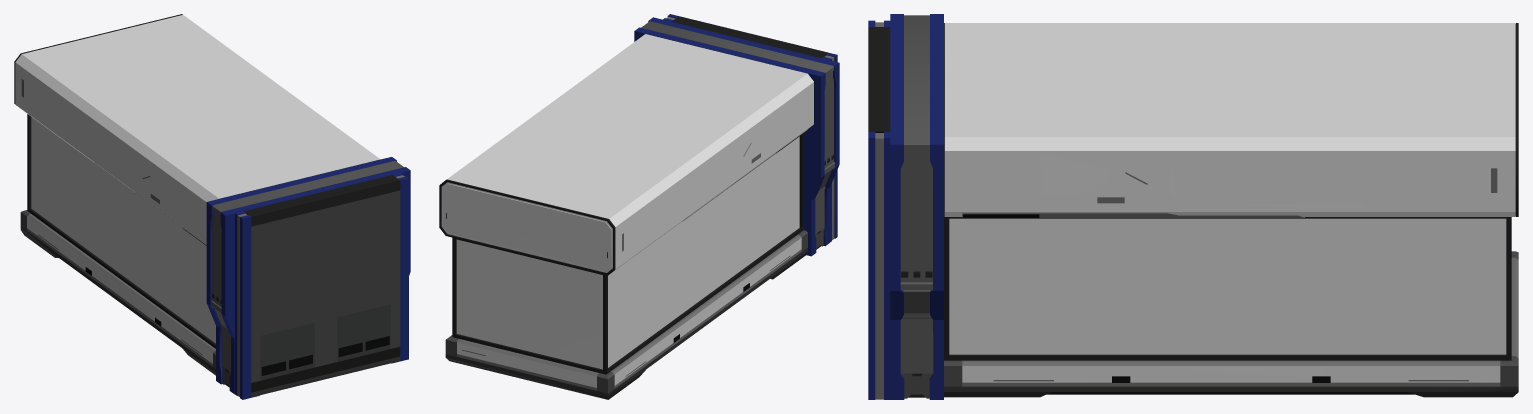
Rendered from SM_H_Building_FutureTech_AutomaticWorkshop_01_ATLAS.fbx.
3 views of the same model, side by side, from view 1: azimuth 30°, elevation 25°; view 2: azimuth 150°, elevation 25°; view 3: azimuth 270°, elevation 25° (orthographic). The views are drawn at different scales.
Visible parts, largest first — view 1: SM_H_Building_FutureTech_AutomaticWorkshop_01_ATLAS; view 2: SM_H_Building_FutureTech_AutomaticWorkshop_01_ATLAS; view 3: SM_H_Building_FutureTech_AutomaticWorkshop_01_ATLAS.
Boxes of the visible parts, x1=… form: SM_H_Building_FutureTech_AutomaticWorkshop_01_ATLAS: x1=14, y1=14, x2=410, y2=399; SM_H_Building_FutureTech_AutomaticWorkshop_01_ATLAS: x1=439, y1=14, x2=839, y2=399; SM_H_Building_FutureTech_AutomaticWorkshop_01_ATLAS: x1=868, y1=14, x2=1518, y2=399.
Bounding box in the file's own units: 707 × 1486 × 660.
